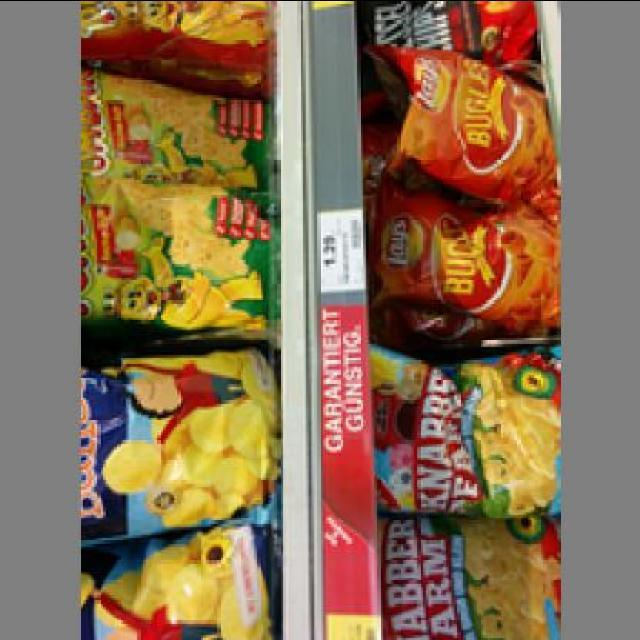Chips: (76, 343, 272, 548), (374, 350, 560, 526), (80, 177, 277, 337), (376, 49, 554, 206), (376, 194, 554, 337), (73, 523, 270, 639), (80, 74, 274, 190), (384, 514, 556, 638)
